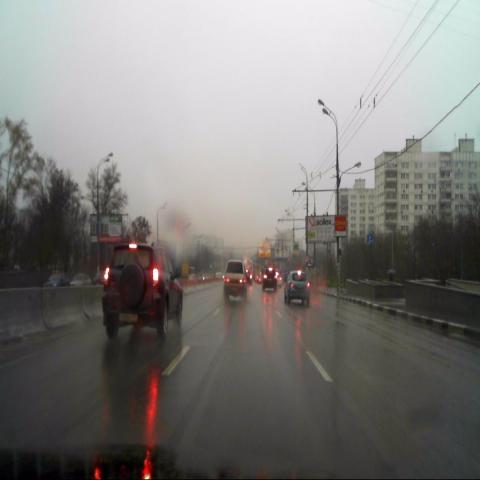6_6: (366, 233, 374, 245)
